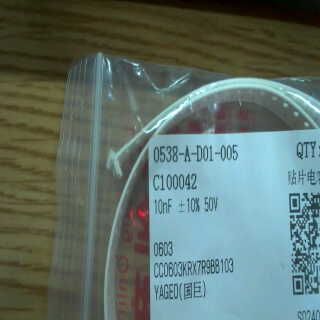10nF: (150, 197, 174, 217)
